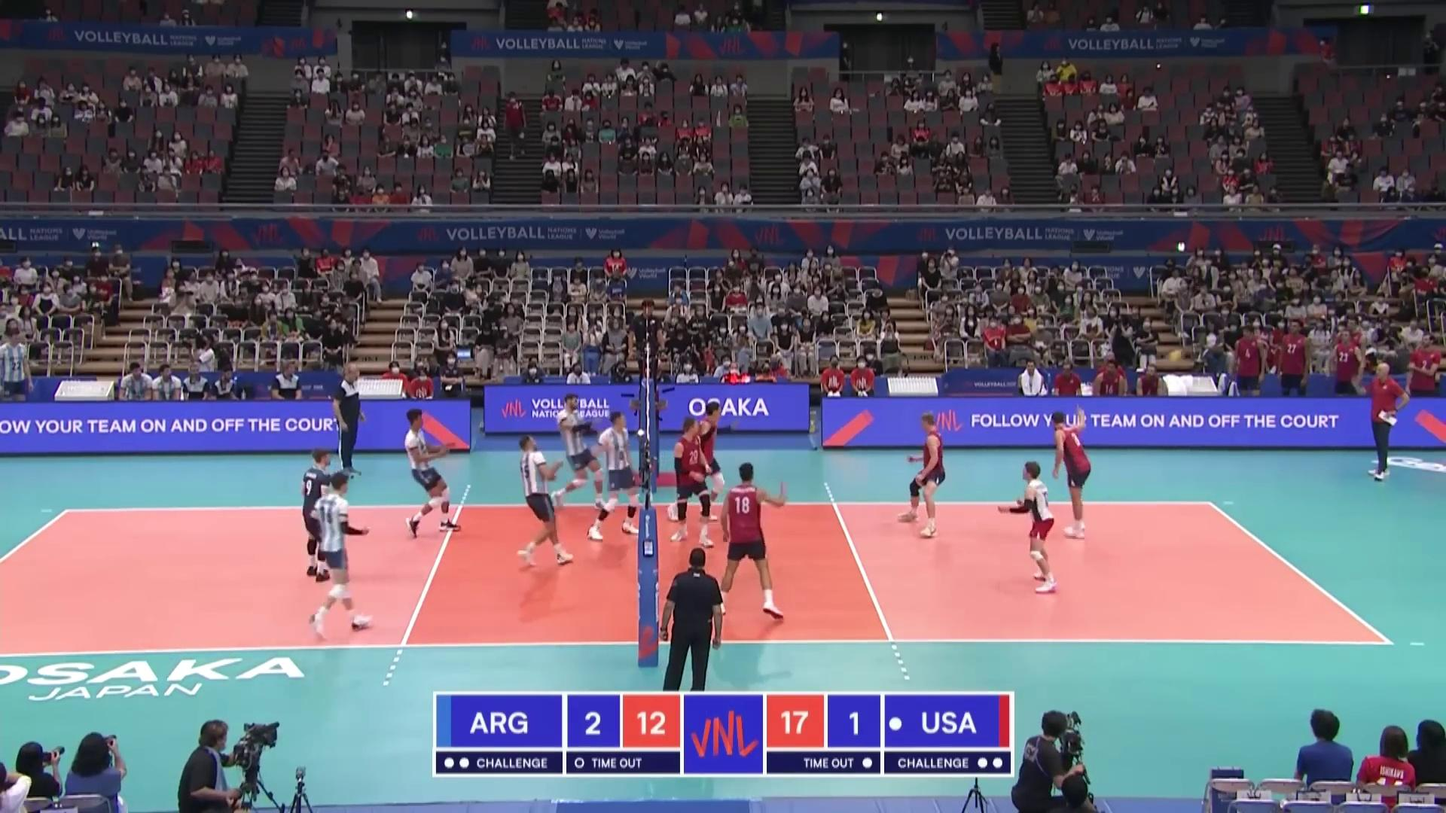player: (713, 464, 791, 619), (308, 473, 376, 636), (515, 436, 576, 570), (402, 407, 463, 537), (1001, 462, 1058, 594), (550, 393, 611, 510), (589, 411, 640, 542), (667, 403, 723, 520), (1049, 411, 1094, 541), (902, 414, 948, 538), (671, 416, 713, 547), (302, 449, 335, 580)
refree: (660, 550, 723, 691), (630, 300, 664, 393)
